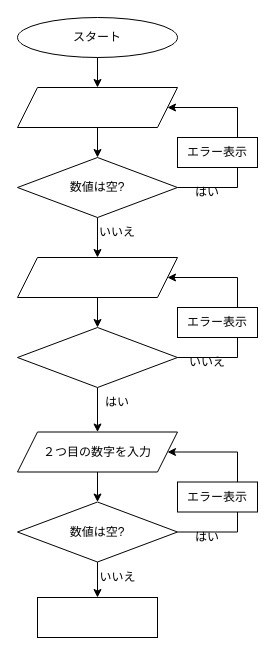
The diagram is 275 pixels wide and 655 high, and some of its shapes have lost their labels. Each missing label, with the centre of its shape:
"+, -, *, / ですか？" belongs at pixel 97 357.
"値を保存" belongs at pixel 97 617.
"演算子を入力" belongs at pixel 97 277.
"１つ目の数字を入力" belongs at pixel 97 107.
